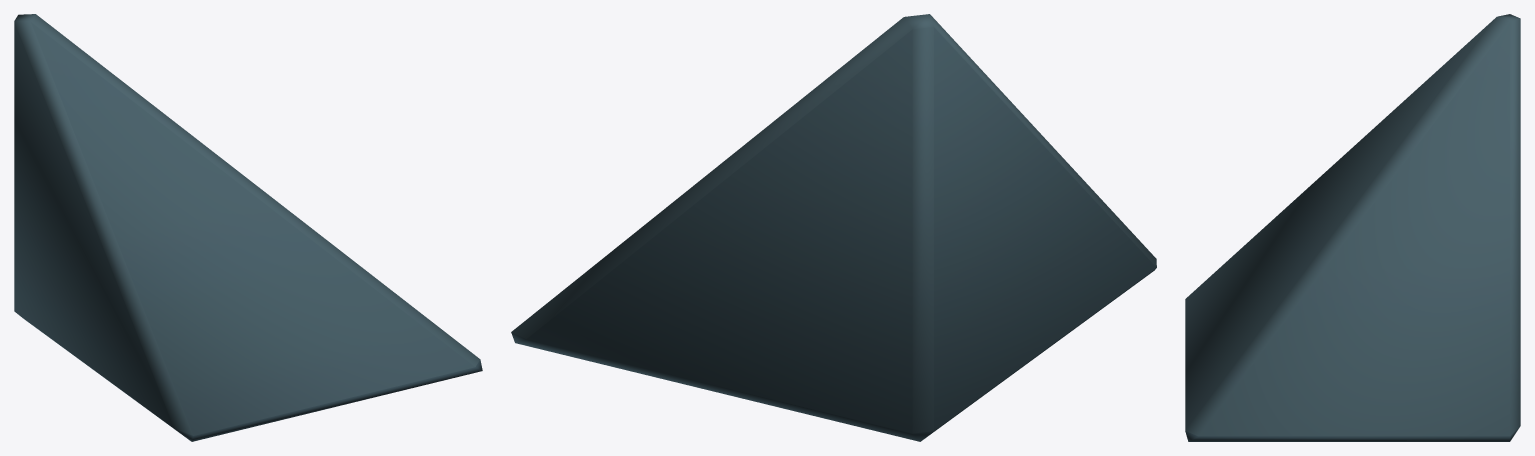
File: ramp_convex_hue_3.fbx
3 renders of one model, left to right at view 1: azimuth 30°, elevation 25°; view 2: azimuth 150°, elevation 25°; view 3: azimuth 270°, elevation 25°, orthographic. The views are drawn at different scales.
Visible parts, largest first — view 1: ramp_convex_hue_3; view 2: ramp_convex_hue_3; view 3: ramp_convex_hue_3.
Part boxes in pixels (x1,y1,x2,y2): ramp_convex_hue_3: [14, 14, 482, 441]; ramp_convex_hue_3: [511, 14, 1156, 441]; ramp_convex_hue_3: [1185, 14, 1520, 441].
Size of the model in its own units: 97.79 by 93.05 by 97.79.
